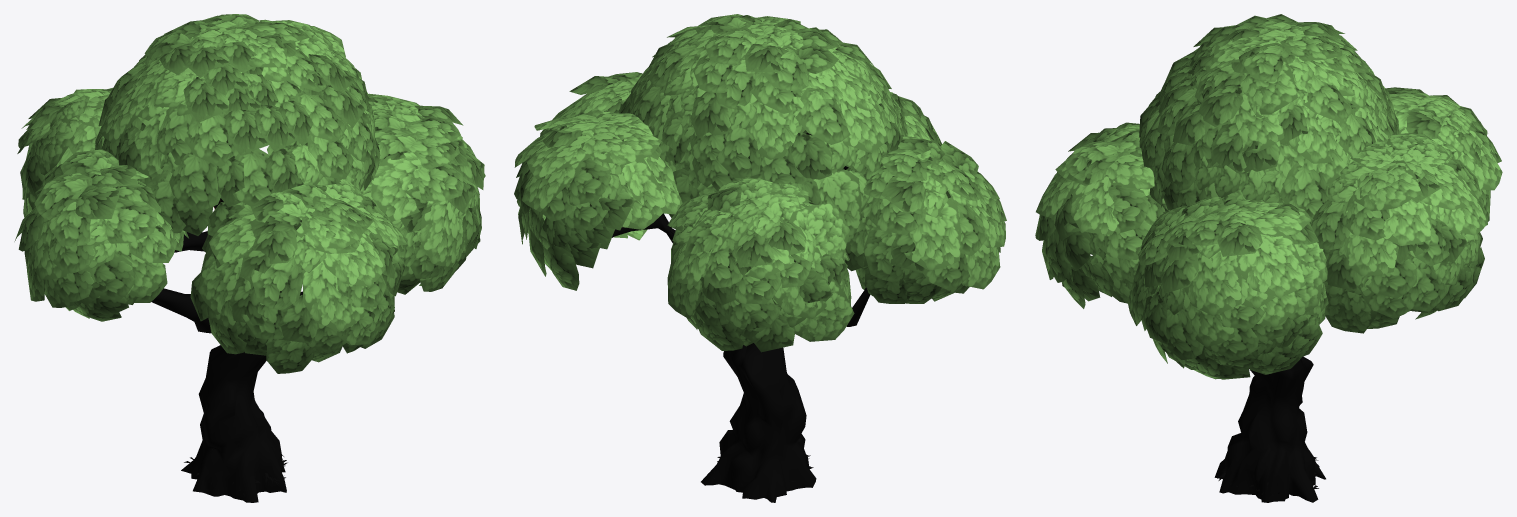
File: tree.glb
The picture shows the model from 3 angles, left to right: view 1: azimuth 30°, elevation 25°; view 2: azimuth 150°, elevation 25°; view 3: azimuth 270°, elevation 25°; orthographic projection.
Parts seen in each view (by area): view 1: LOD0; view 2: LOD0; view 3: LOD0.
Boxes of the visible parts, box(x1,y1,x2,y2) form: LOD0: box(14, 14, 485, 502); LOD0: box(514, 14, 1006, 502); LOD0: box(1035, 14, 1502, 502).
Size of the model in its own units: 24.53 by 23.99 by 22.7.
2 materials, 2 textured.
